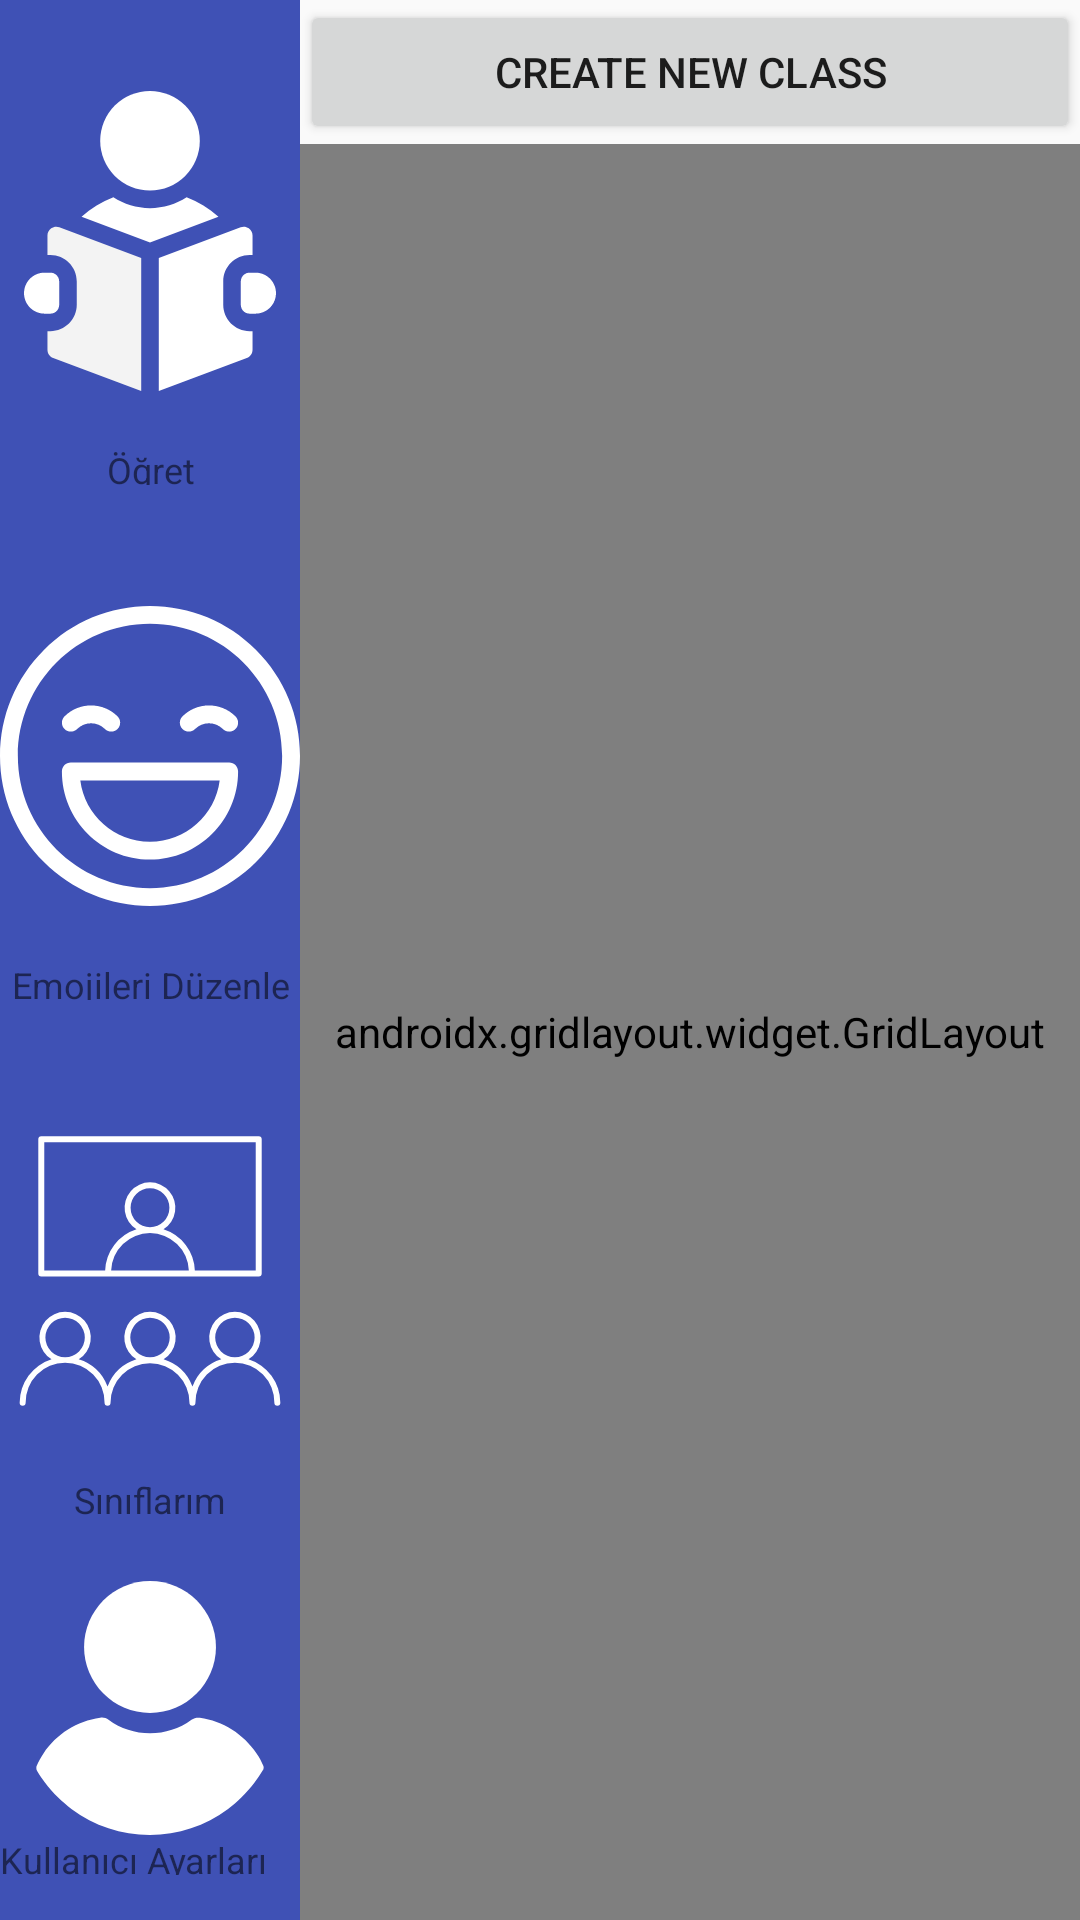

Screen size 1080px x 1920px. Icon name, then its box in pixels as (x1, y1, x2, y2):
happy: (0, 606, 300, 906)
resource class: (19, 1136, 281, 1406)
tutorials: (24, 91, 276, 391)
